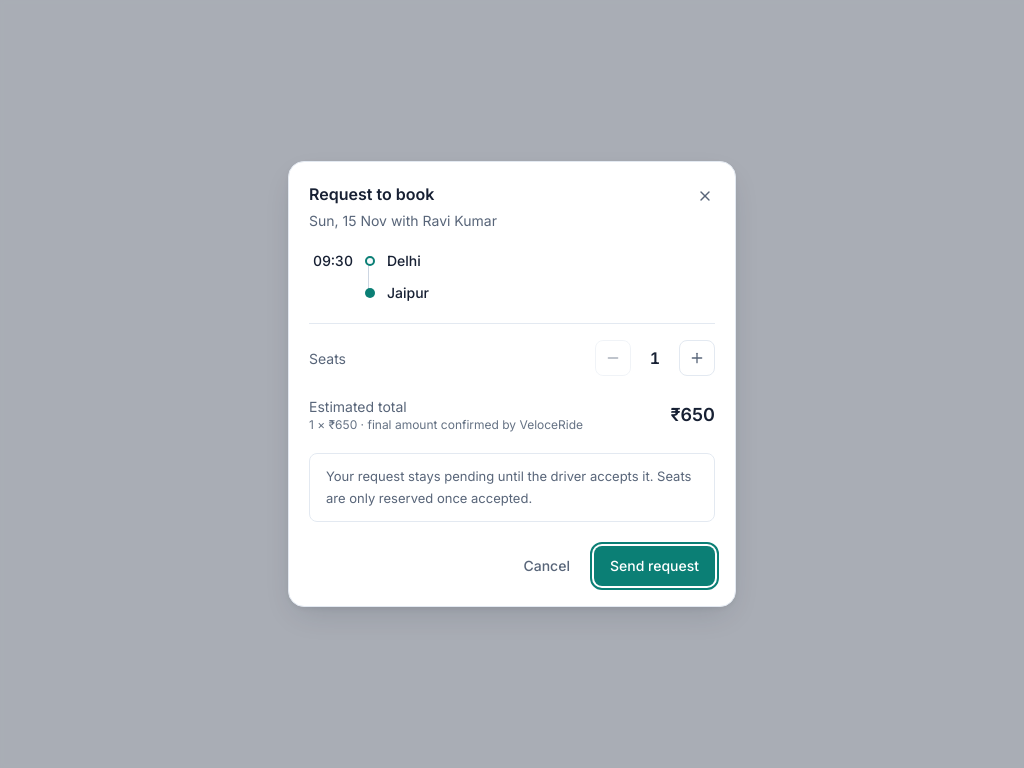
Test case: booking flow › requests the chosen number of seats and opens the booking
Click the button named "More seats" at point(697, 358), box [679,340,715,376]
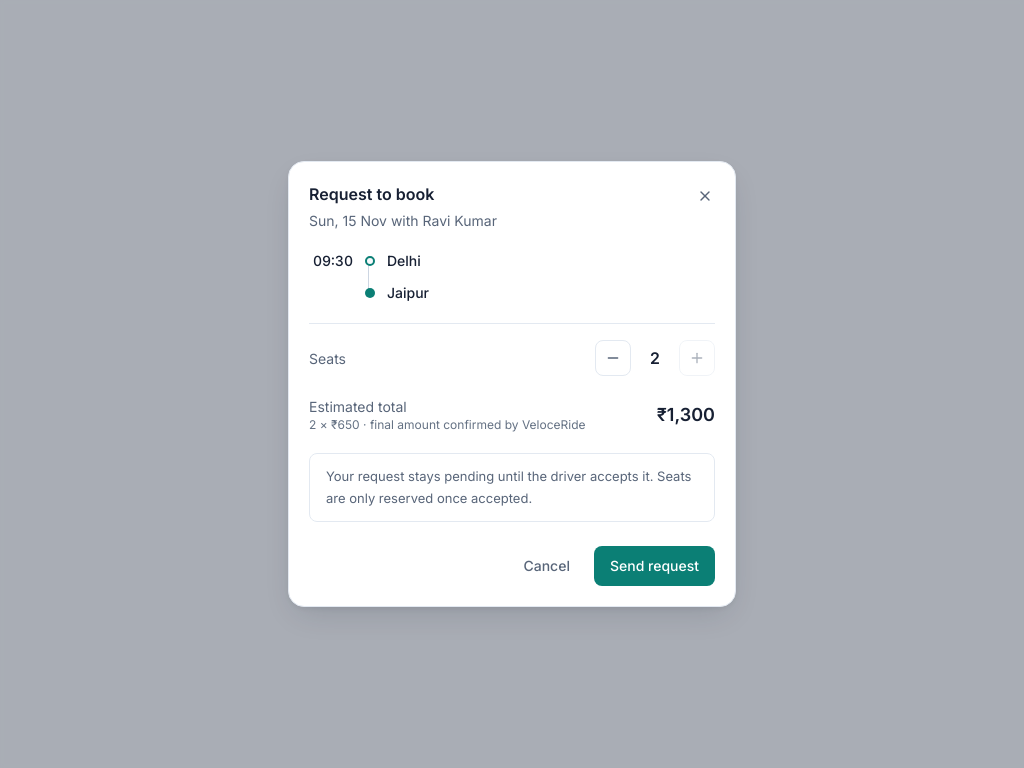
Expected: the button named "More seats" is disabled, [679,340,715,376]
Expected: the text "₹1,300" is shown, [657,401,715,429]
Click the button "Send request" at point(654, 566), box [594,546,715,586]
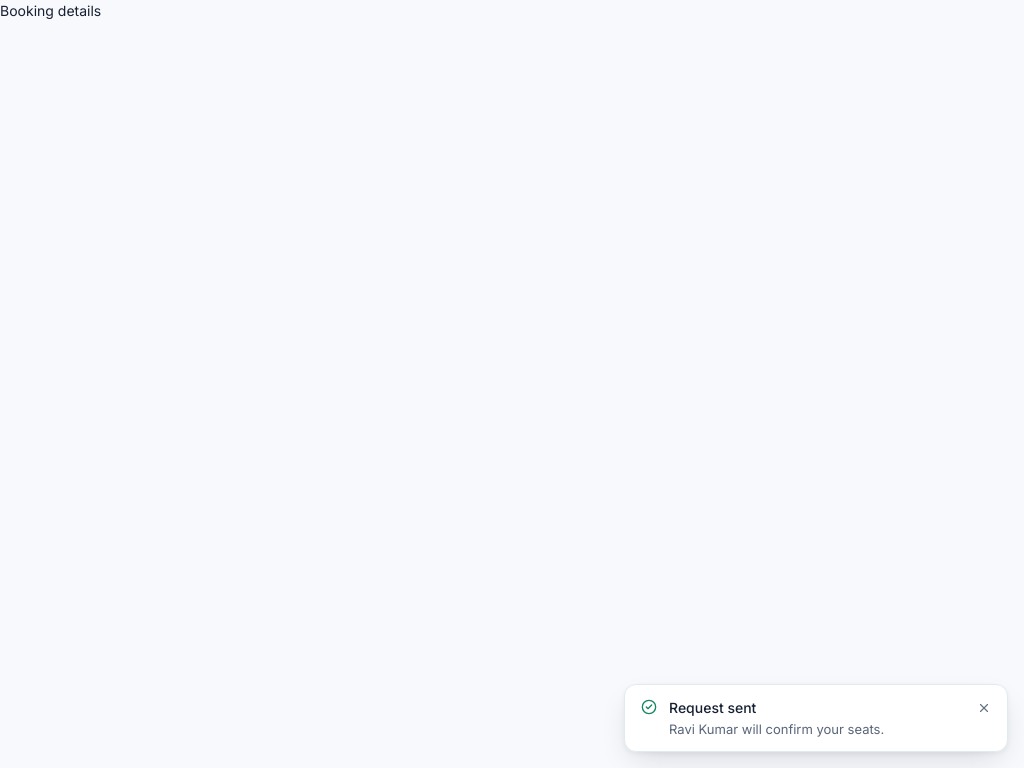
Expected: the text "Booking details" is shown, [0,2,101,19]
